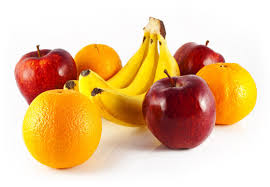apple: (140, 72, 223, 153), (12, 43, 81, 107), (172, 37, 226, 76)
banana: (83, 7, 189, 133)
orange: (20, 88, 107, 170), (197, 61, 261, 129), (71, 40, 125, 82)
